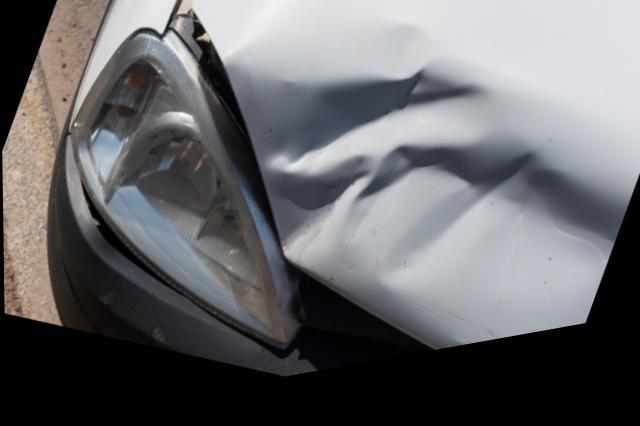dent: (244, 35, 635, 364)
dislocated part: (170, 0, 640, 383)
